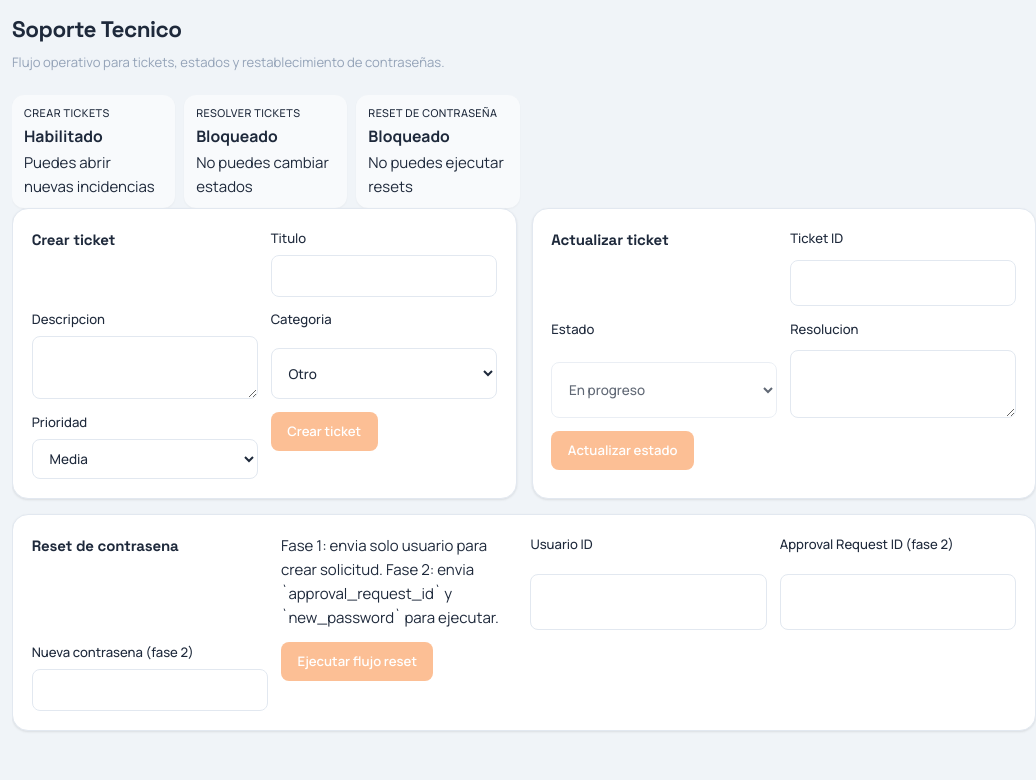
SoporteTecnicoPage › submits create ticket when capability exists
Step 1. Type "Error login" into the field labelled "Titulo" → (384,276), box [271,255,497,297]
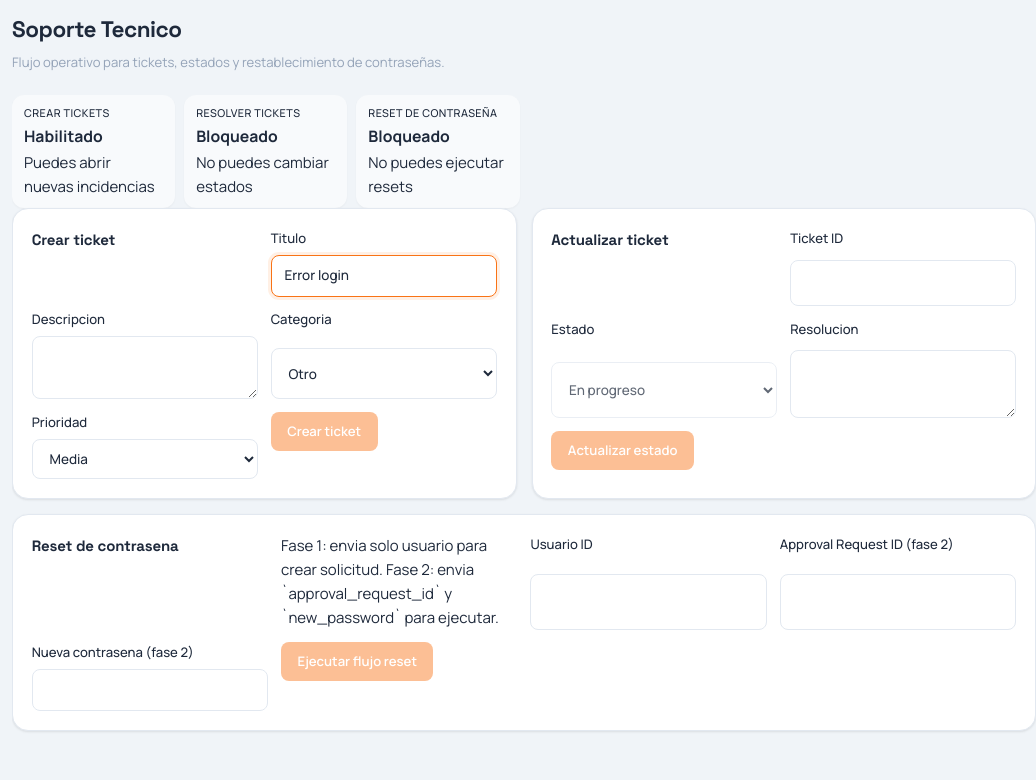
Step 2. Type "No me deja entrar" into the text box labelled "Descripcion" → (145,368), box [32,336,258,400]
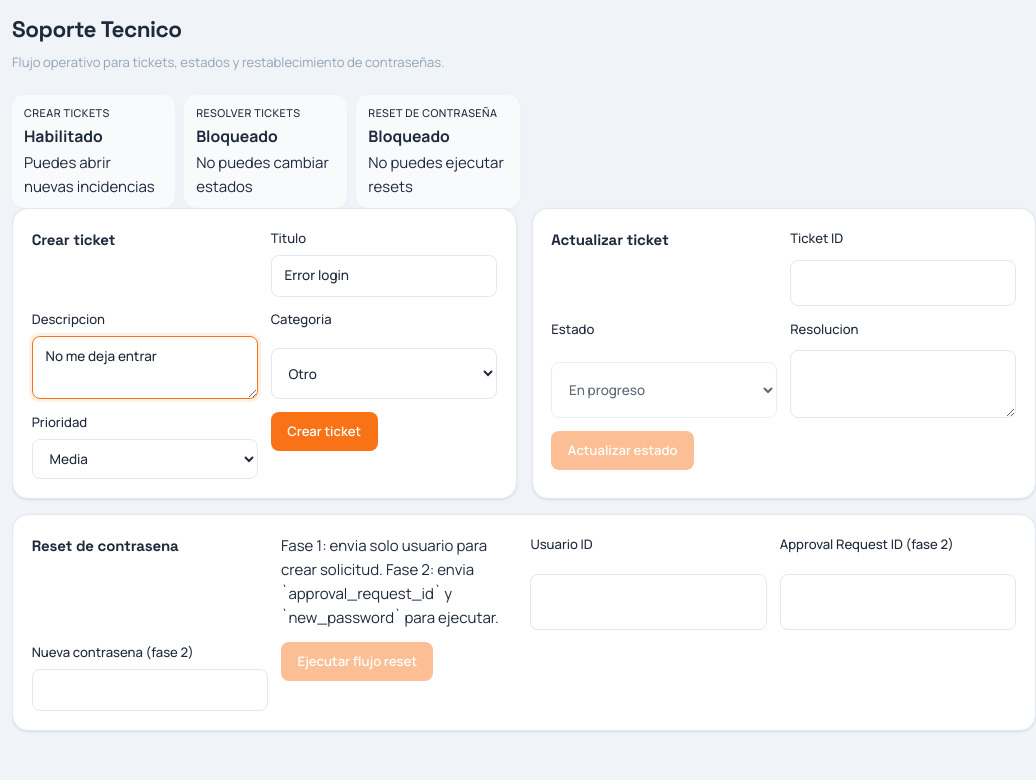
Step 3. Click the button "Crear ticket" → (324,432), box [271,412,378,451]
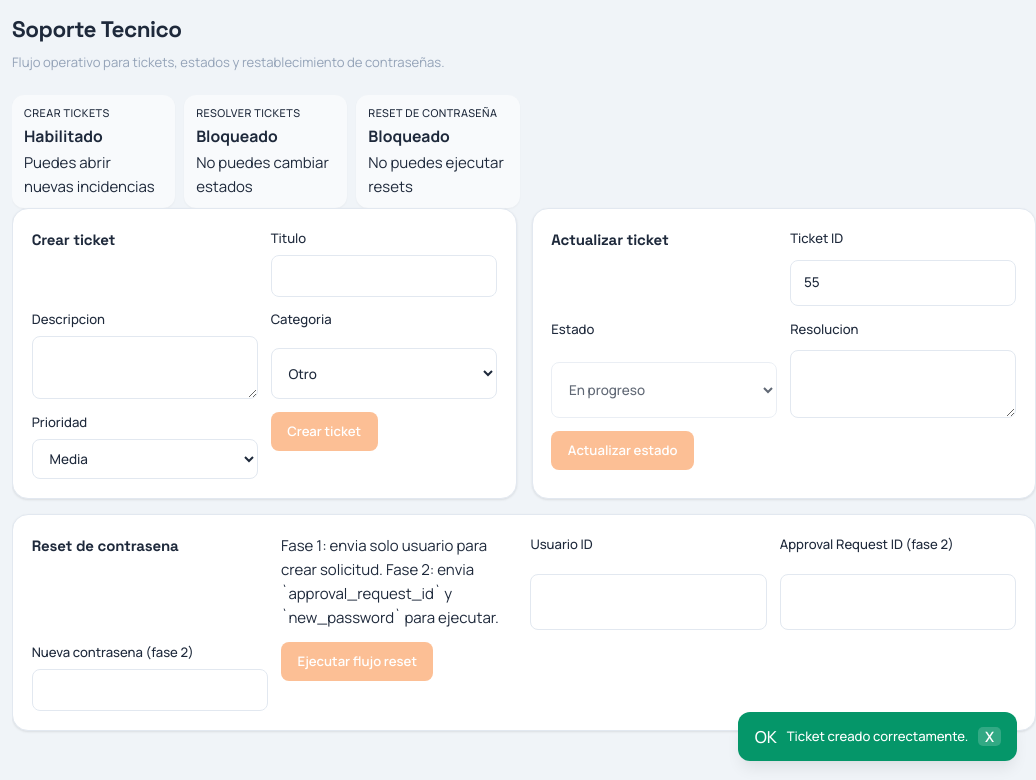
Now the text "Ticket creado correctamente." is shown, box [787,726,968,747]
Now the number field labelled "Ticket ID" holds "55", box [790,260,1016,306]
